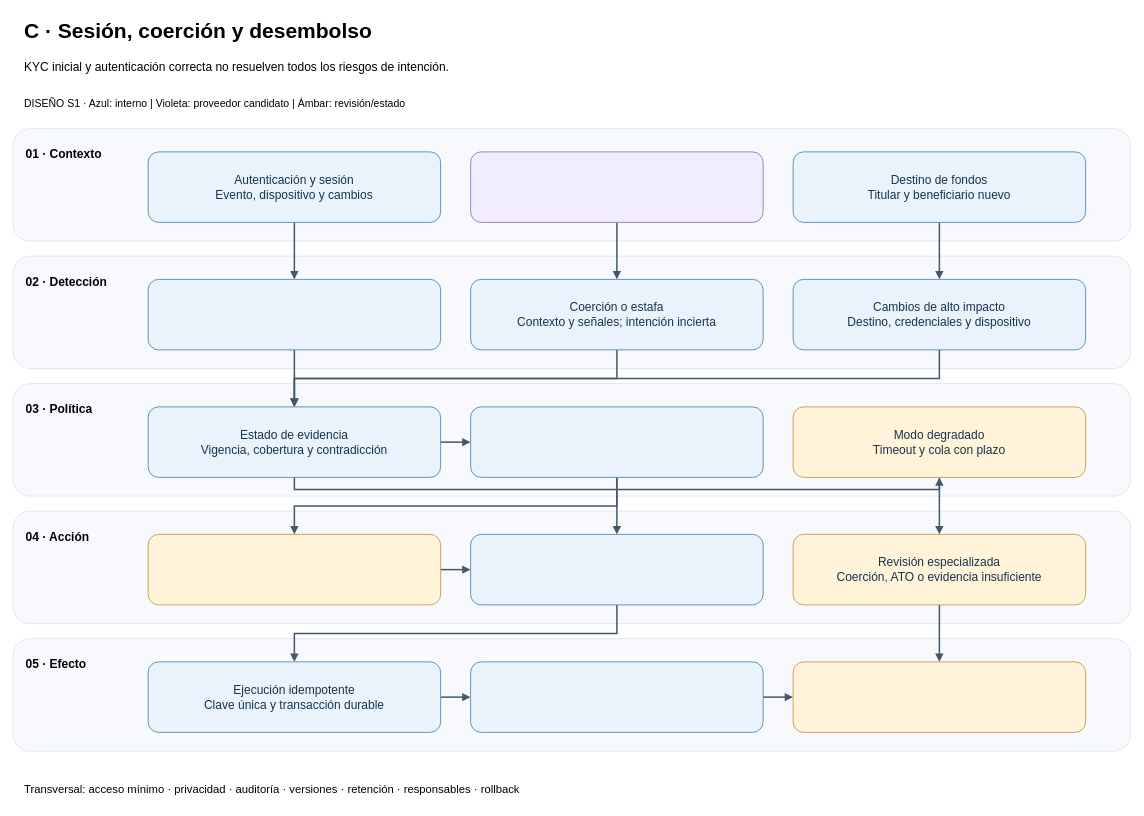
This 1144x816 diagram has some shape labels left out. Each missing label, with the centre of its shape:
Autorización de pagos Check final de destino y vigencia: [616,569]
Costo y capacidad Continuar, verificar o retener: [616,441]
Ledger de efecto Decision_id enlazado a effect_id: [616,696]
Seguimiento y resolución Pérdida madura y apelación: [939,696]
Señales conductuales BioCatch / Feedzai como candidatos: [616,186]
Toma de cuenta Modelo temporal y reglas: [294,314]
Verificación adicional Canal previamente confiable: [294,569]
